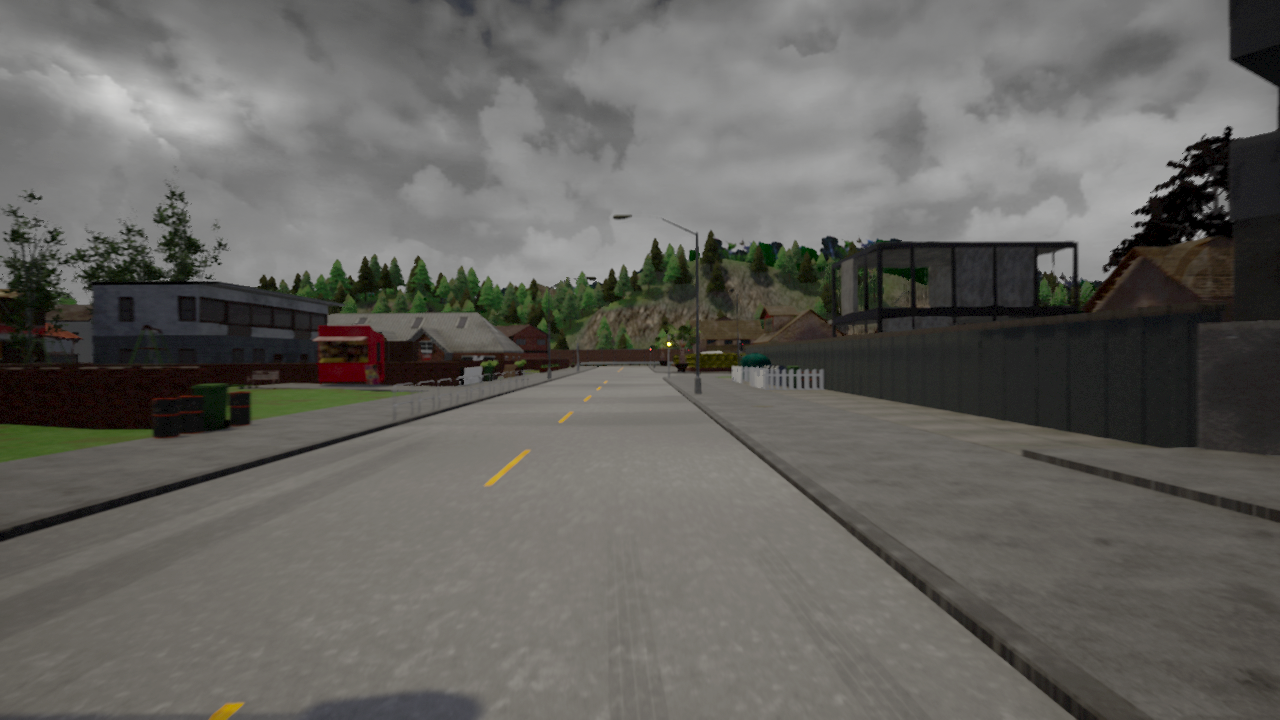yellow: (665, 336, 672, 351)
